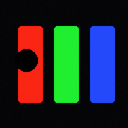2 circle: (15, 49, 37, 71)
